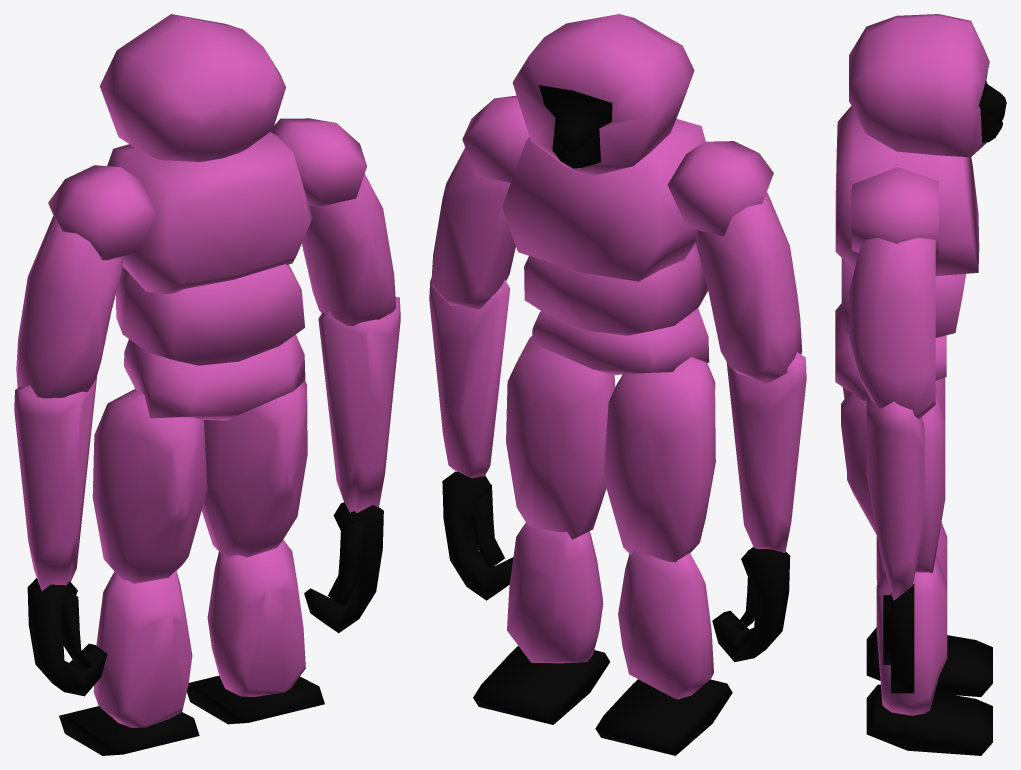
File: gibbon_parts_fbx.fbx
3 renders of one model, left to right at view 1: azimuth 30°, elevation 25°; view 2: azimuth 150°, elevation 25°; view 3: azimuth 270°, elevation 25°, orthographic. The views are drawn at different scales.
Visible parts, largest first — view 1: Hips.017, Hips.019, Hips.008, Hips.011, Hips.012, Hips.004, Hips.002, Hips, Hips.005, Hips.015, Hips.016, Hips.001 (+8 smaller); view 2: Hips.019, Hips.017, Hips.008, Hips.011, Hips.004, Hips.002, Hips, Hips.015, Hips.005, Hips.012, Hips.016, Hips.001 (+7 smaller); view 3: Hips.019, Hips.016, Hips.017, Hips.015, Hips.010, Hips.011, Hips, Hips.018, Hips.009, Hips.014, Hips.012, Hips.001 (+3 smaller).
Part boxes in pixels (left/top/right/bottom): Hips.017: left=107, top=132, right=312, bottom=293; Hips.019: left=99, top=14, right=286, bottom=161; Hips.008: left=92, top=389, right=207, bottom=583; Hips.011: left=201, top=381, right=307, bottom=557; Hips.012: left=116, top=264, right=304, bottom=365; Hips.004: left=16, top=215, right=124, bottom=398; Hips.002: left=93, top=571, right=192, bottom=727; Hips: left=207, top=539, right=305, bottom=696; Hips.005: left=14, top=377, right=96, bottom=590; Hips.015: left=318, top=297, right=400, bottom=513; Hips.016: left=302, top=174, right=396, bottom=326; Hips.001: left=124, top=334, right=305, bottom=420; Hips.019: left=512, top=14, right=694, bottom=174; Hips.017: left=502, top=119, right=705, bottom=281; Hips.008: left=603, top=357, right=715, bottom=562; Hips.011: left=506, top=336, right=615, bottom=539; Hips.004: left=696, top=192, right=802, bottom=383; Hips.002: left=618, top=549, right=713, bottom=699; Hips: left=507, top=523, right=603, bottom=663; Hips.015: left=429, top=278, right=510, bottom=478; Hips.005: left=726, top=352, right=806, bottom=552; Hips.012: left=524, top=243, right=708, bottom=335; Hips.016: left=431, top=147, right=515, bottom=309; Hips.001: left=532, top=308, right=709, bottom=374; Hips.019: left=849, top=14, right=1006, bottom=157; Hips.016: left=849, top=238, right=935, bottom=419; Hips.017: left=835, top=106, right=979, bottom=276; Hips.015: left=866, top=396, right=924, bottom=600; Hips.010: left=866, top=684, right=992, bottom=755; Hips.011: left=841, top=388, right=945, bottom=573; Hips: left=876, top=555, right=947, bottom=715; Hips.018: left=851, top=167, right=938, bottom=256; Hips.009: left=866, top=627, right=992, bottom=696; Hips.014: left=891, top=584, right=914, bottom=693; Hips.012: left=841, top=258, right=965, bottom=337; Hips.001: left=835, top=303, right=946, bottom=400.
Bounding box in the file's own units: 450 × 798 × 179.
